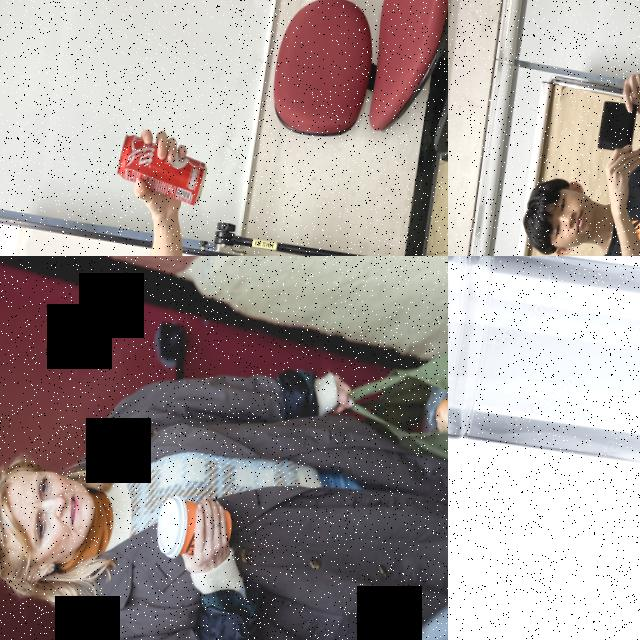bottle: (448, 256, 640, 488)
can: (111, 125, 214, 208)
cup: (152, 490, 235, 566)
